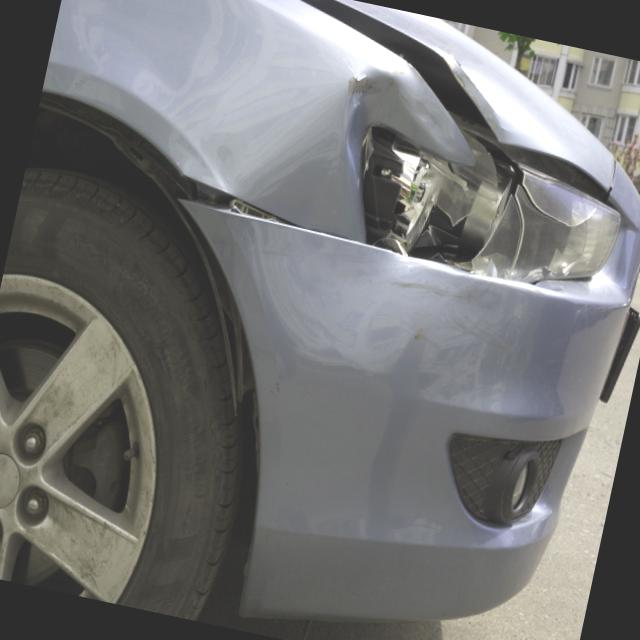Cabossage: (181, 109, 465, 387), (334, 58, 470, 163)
Dechirure: (411, 43, 541, 180)
Phare abime: (327, 117, 632, 310)
Rayure: (369, 247, 521, 373), (315, 46, 415, 141)
